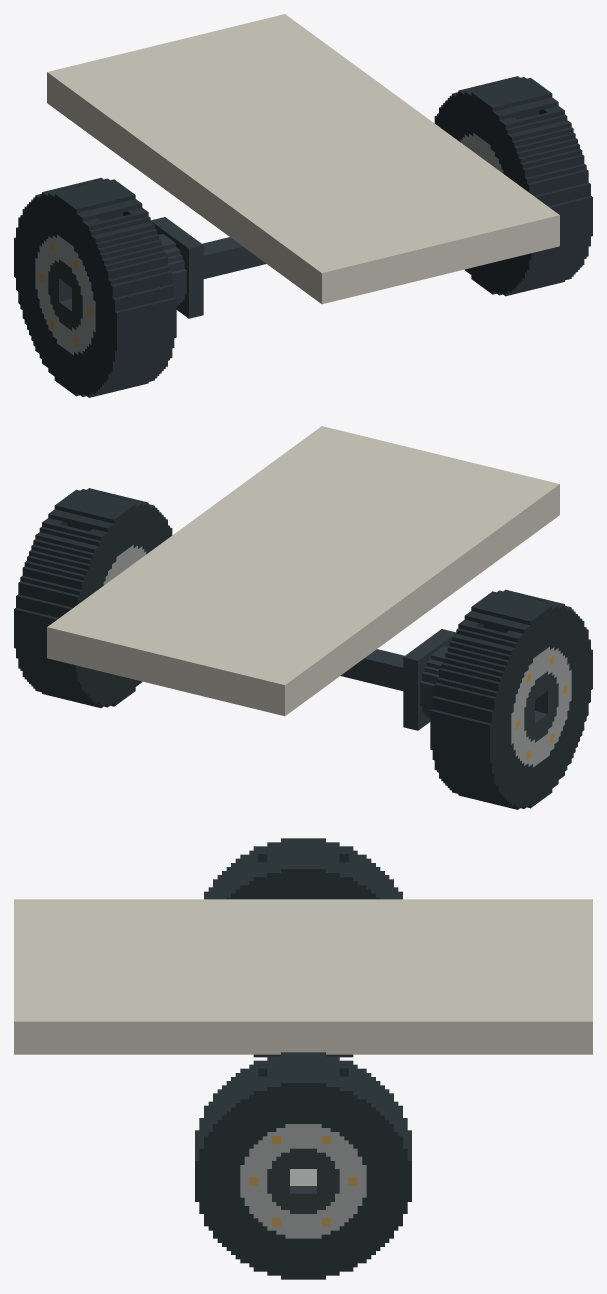
The picture shows the model from 3 angles, top to bottom: view 1: azimuth 30°, elevation 25°; view 2: azimuth 150°, elevation 25°; view 3: azimuth 270°, elevation 25°; orthographic projection. The views are drawn at different scales.
Visible parts, largest first — view 1: 穿轮毂方孔的前轴与车体高度样件（辅助）, 城市道路载具轮胎轮毂组件 (×2); view 2: 穿轮毂方孔的前轴与车体高度样件（辅助）, 城市道路载具轮胎轮毂组件 (×2); view 3: 穿轮毂方孔的前轴与车体高度样件（辅助）, 城市道路载具轮胎轮毂组件 (×2).
Boxes of the visible parts, left/top/right/bottom form: 穿轮毂方孔的前轴与车体高度样件（辅助）: left=47, top=14, right=559, bottom=304; 城市道路载具轮胎轮毂组件 (×2): left=14, top=76, right=592, bottom=397; 穿轮毂方孔的前轴与车体高度样件（辅助）: left=47, top=426, right=559, bottom=716; 城市道路载具轮胎轮毂组件 (×2): left=14, top=488, right=592, bottom=809; 穿轮毂方孔的前轴与车体高度样件（辅助）: left=14, top=899, right=592, bottom=1054; 城市道路载具轮胎轮毂组件 (×2): left=195, top=838, right=411, bottom=1279.
Bounding box in the file's own units: 3.2 × 1.2 × 3.2.
5 materials, 5 textured.
